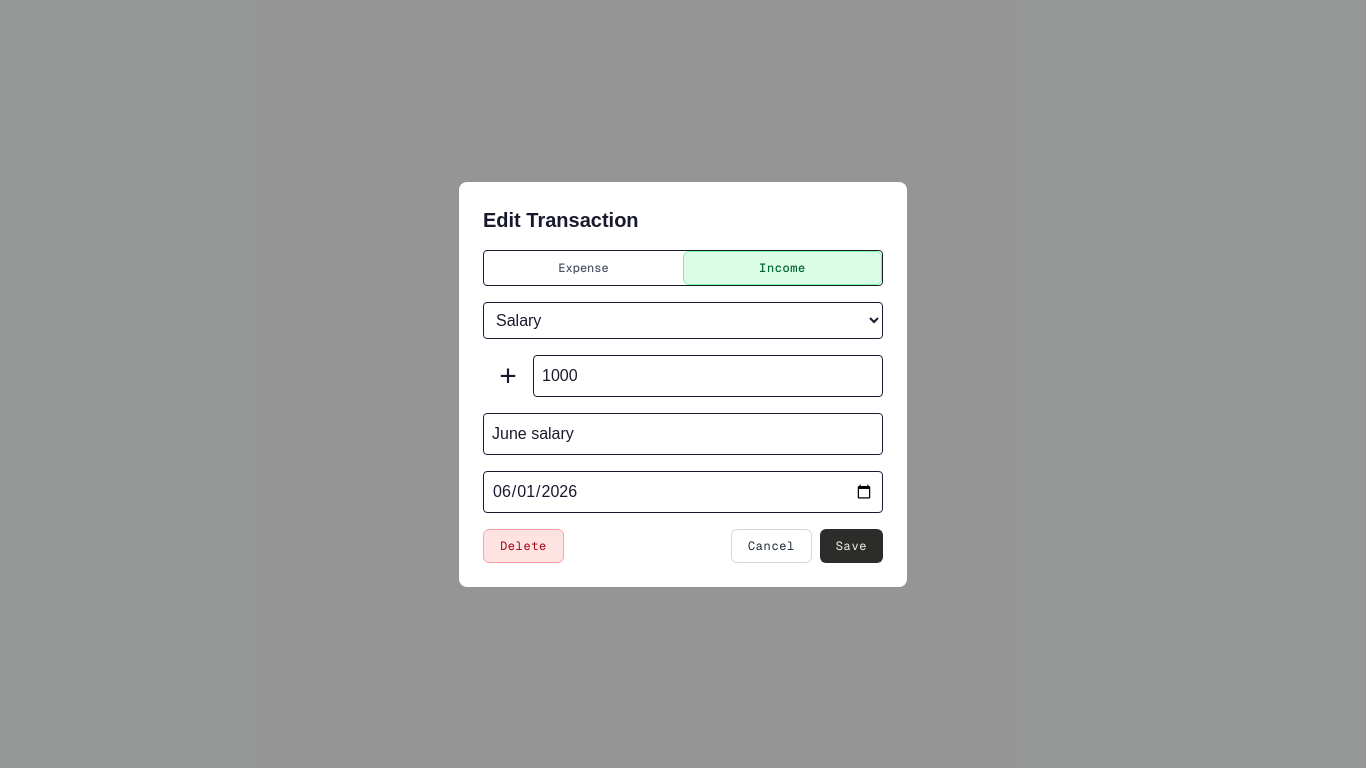
Test: EditTransaction › deleting › shows delete confirmation modal when Delete is clicked
Click the button "Delete": point(523, 546) [483, 528, 564, 562]
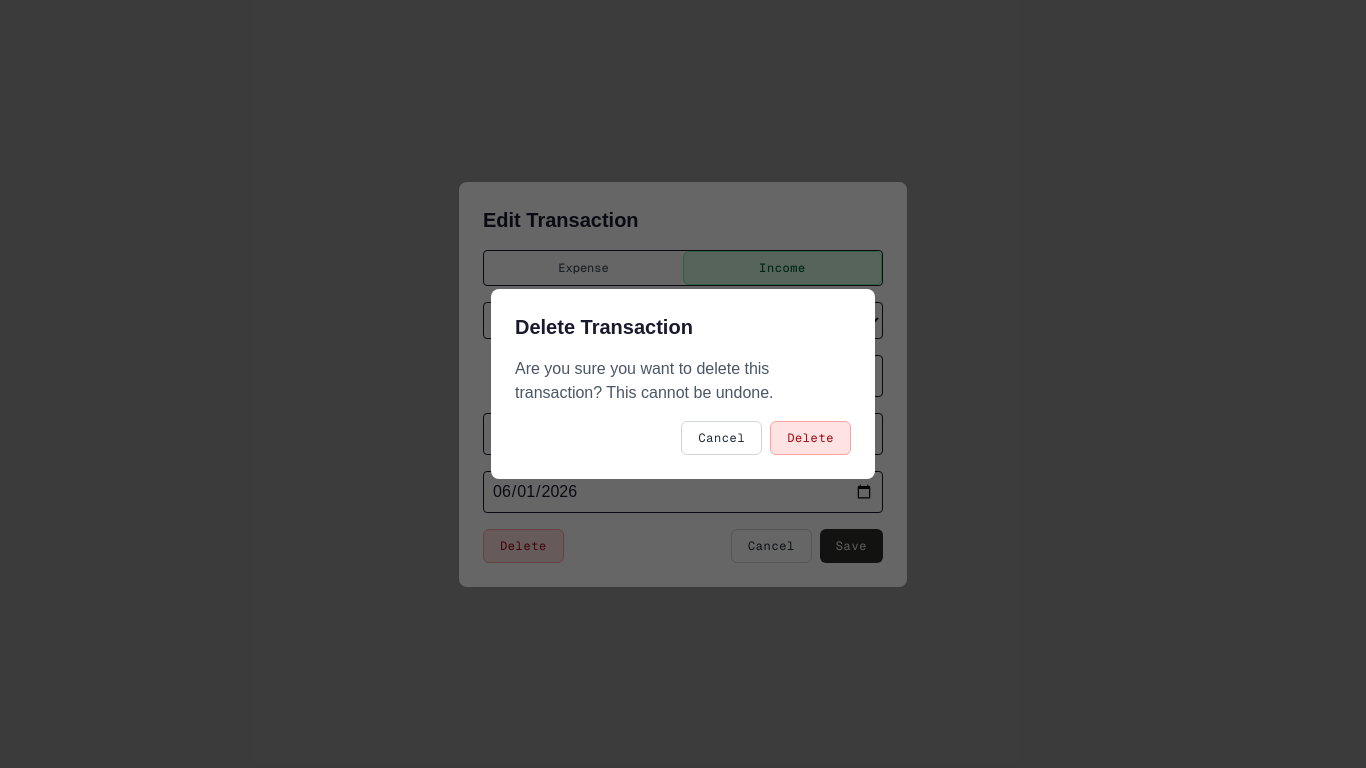
Expected: the heading "Delete Transaction" is shown, [515, 316, 693, 338]
